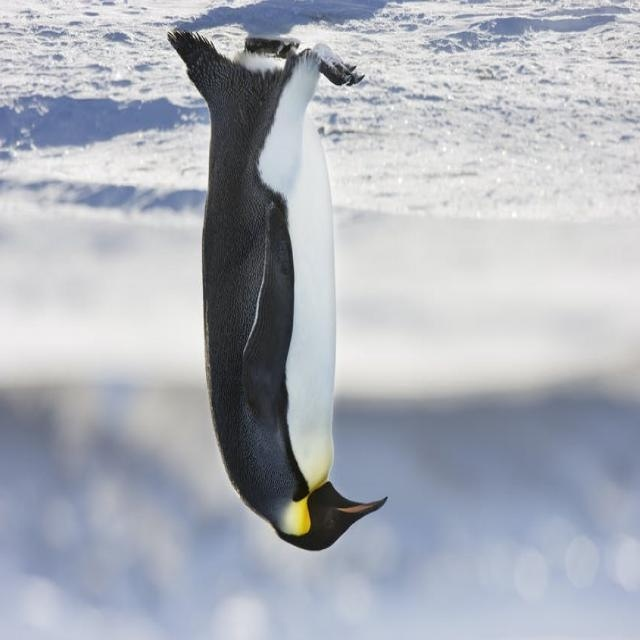penguin: (166, 28, 389, 552)
